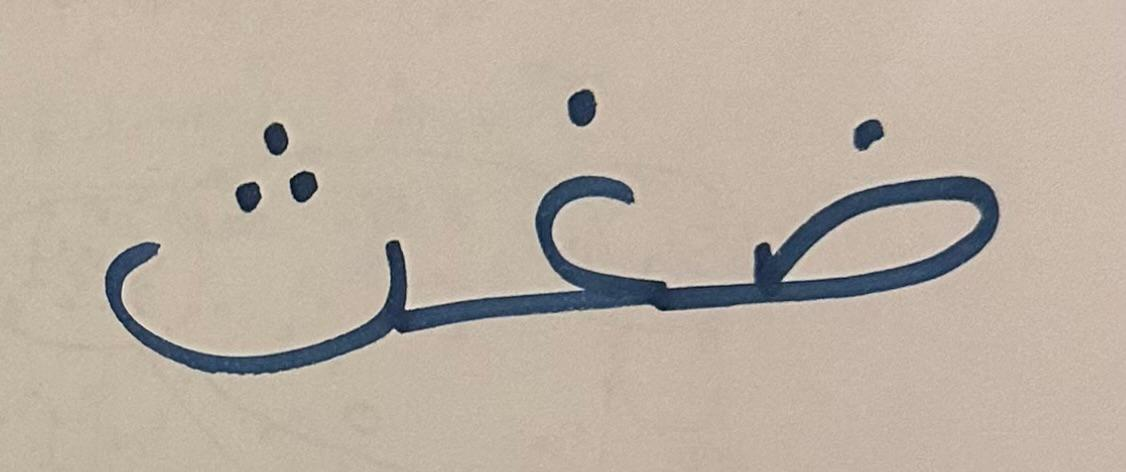dad: (698, 39, 1036, 347)
ghain: (440, 43, 694, 387)
waw: (62, 57, 437, 430)
